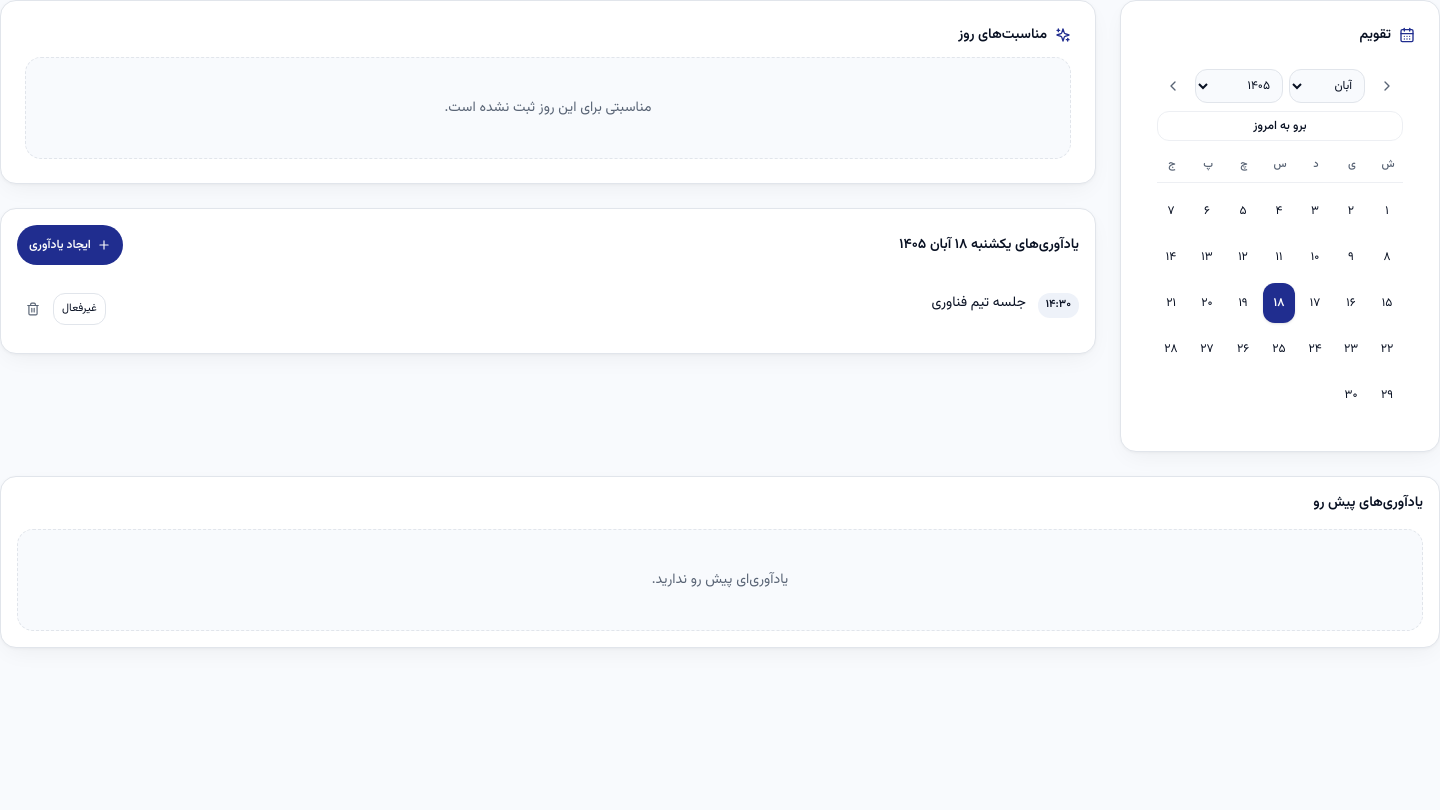
it: CoreCalendarView › reminder management › deletes a reminder and removes it from the list
This screenshot has width=1440, height=810.
Click the button with test id "reminder-delete" at (33, 309), box 17,293 -> 49,325
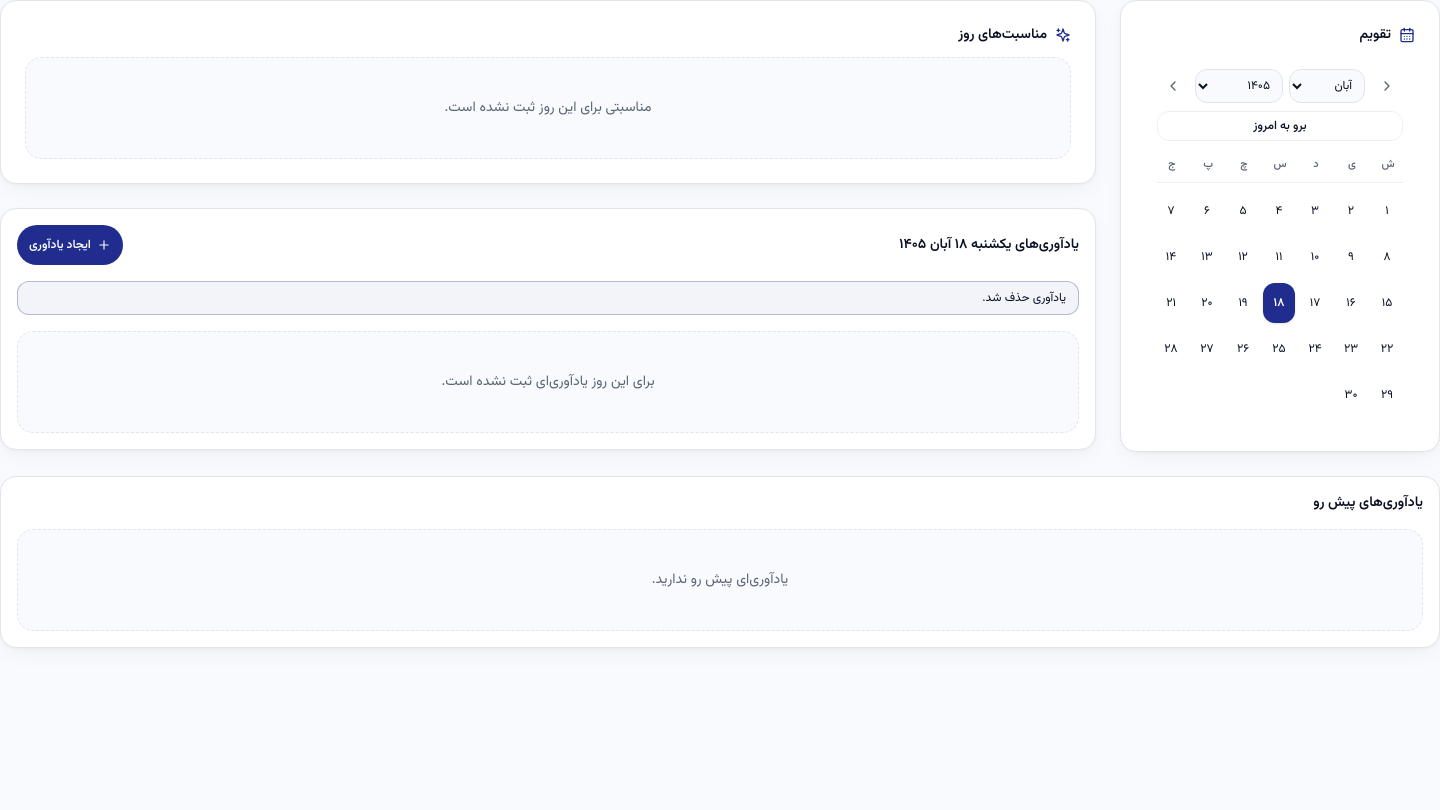
Expected: the list item with test id "reminder-item" is gone
